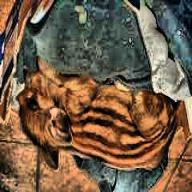boar: (6, 51, 192, 164)
